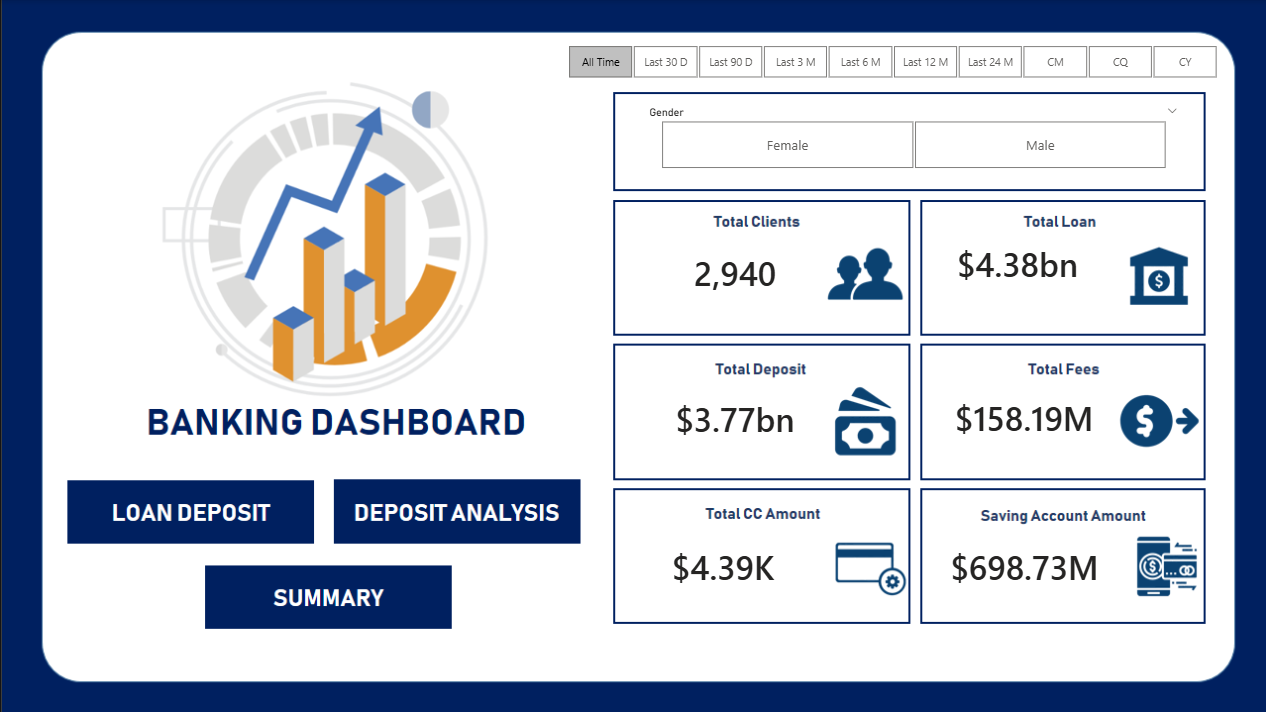

What the dashboard file says about the page in this screenshot:
{"tool":"powerbi","page":{"name":"Home","canvas":[1280,720],"ordinal":0},"visuals":[{"type":"slicer","fields":{"Values":["Gender.Gender"]},"box":[640.3,100.8,558.2,75],"z":0},{"type":"card","fields":{"Values":["DAX Measures.Total Clients"]},"box":[640.3,218.1,198.2,114.9],"z":1000},{"type":"card","fields":{"Values":["DAX Measures.Total Loan"]},"box":[933.4,208.7,184.1,114.9],"z":2000},{"type":"card","fields":{"Values":["DAX Measures.Total Deposit"]},"box":[640.3,374.1,198.2,98.5],"z":3000},{"type":"card","fields":{"Values":["DAX Measures.Total CC Amount"]},"box":[628.5,533.6,198.2,79.7],"z":4000},{"type":"card","fields":{"Values":["DAX Measures.Total Fees"]},"box":[938.1,372.9,185.3,99.7],"z":5000},{"type":"card","fields":{"Values":["DAX Measures.Savings Account"]},"box":[933.4,533.6,198.2,79.7],"z":6000},{"type":"actionButton","box":[63.3,483.1,253.3,65.7],"z":7000},{"type":"actionButton","box":[335.4,485.5,250.9,63.3],"z":8000},{"type":"actionButton","box":[205.2,573.4,255.6,61],"z":9000},{"type":"slicer","fields":{"Values":["Period.Name"]},"box":[546.4,38.7,703.6,45.7],"z":10000}]}

Visuals, with their boxes in screenshot pixels (x1, y1, x2, y2), scaled from the page's 1280x720 canvas onto the 1266x712 screenshot:
slicer - Gender.Gender: {"left": 633, "top": 100, "right": 1185, "bottom": 174}
card - DAX Measures.Total Clients: {"left": 633, "top": 216, "right": 829, "bottom": 329}
card - DAX Measures.Total Loan: {"left": 923, "top": 206, "right": 1105, "bottom": 320}
card - DAX Measures.Total Deposit: {"left": 633, "top": 370, "right": 829, "bottom": 467}
card - DAX Measures.Total CC Amount: {"left": 622, "top": 528, "right": 818, "bottom": 606}
card - DAX Measures.Total Fees: {"left": 928, "top": 369, "right": 1111, "bottom": 467}
card - DAX Measures.Savings Account: {"left": 923, "top": 528, "right": 1119, "bottom": 606}
actionButton: {"left": 63, "top": 478, "right": 313, "bottom": 543}
actionButton: {"left": 332, "top": 480, "right": 580, "bottom": 543}
actionButton: {"left": 203, "top": 567, "right": 456, "bottom": 627}
slicer - Period.Name: {"left": 540, "top": 38, "right": 1236, "bottom": 83}
